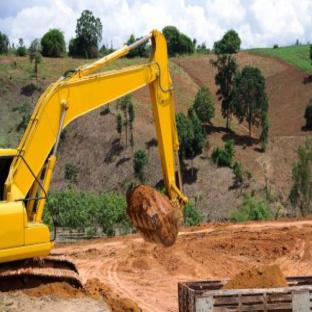ExcavationMachinery: (3, 27, 225, 294)
